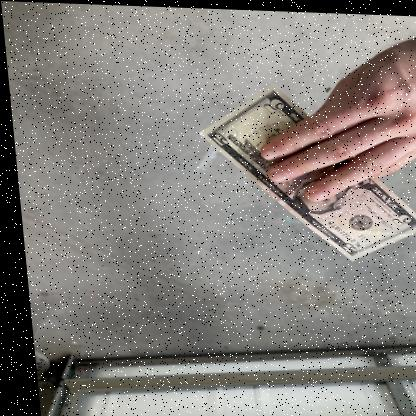five-front: (192, 79, 416, 259)
